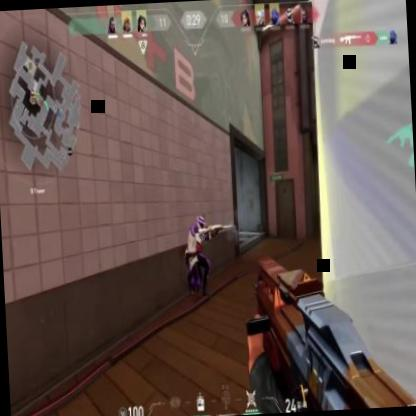enemy: (184, 214, 210, 299)
enemy_head: (196, 215, 204, 232)
